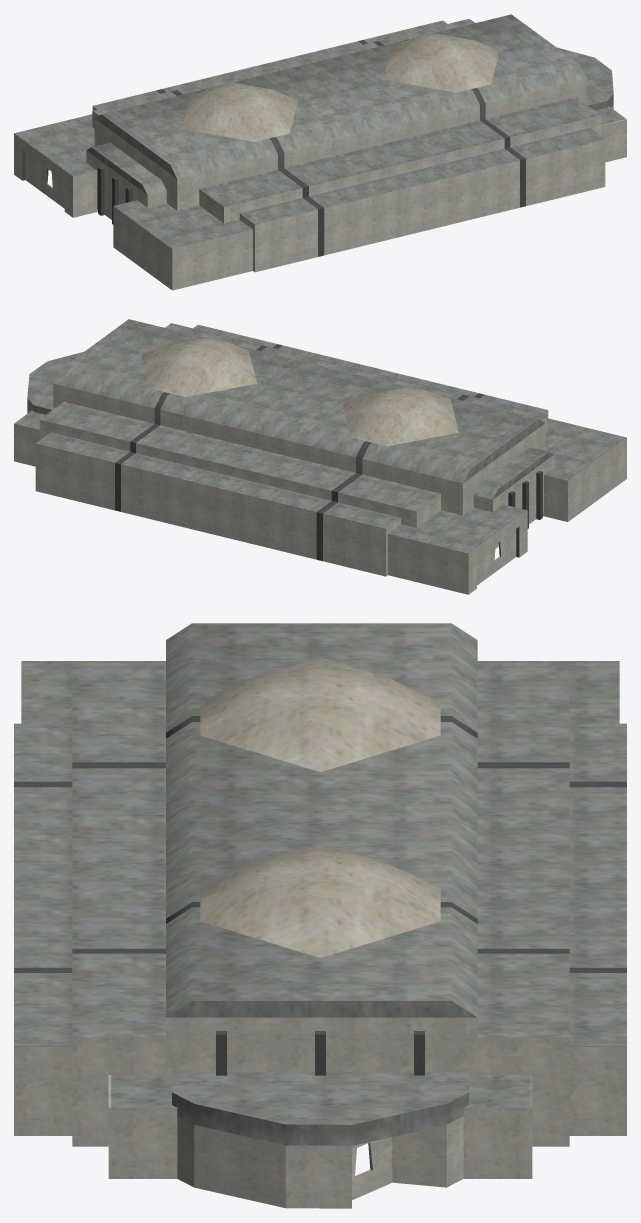
The model's file is thm_all_cantina_r0_mesh_l4.fbx.
3 views of the same model, one above another, from view 1: azimuth 30°, elevation 25°; view 2: azimuth 150°, elevation 25°; view 3: azimuth 270°, elevation 25° (orthographic). The views are drawn at different scales.
Visible parts, largest first — view 1: mesh_node; view 2: mesh_node; view 3: mesh_node.
Boxes of the visible parts, x1,y1,x2,y2 form: mesh_node: (14,14,626,290); mesh_node: (14,319,626,594); mesh_node: (14,623,626,1208).
Bounding box in the file's own units: 101 × 19.97 × 55.66.
